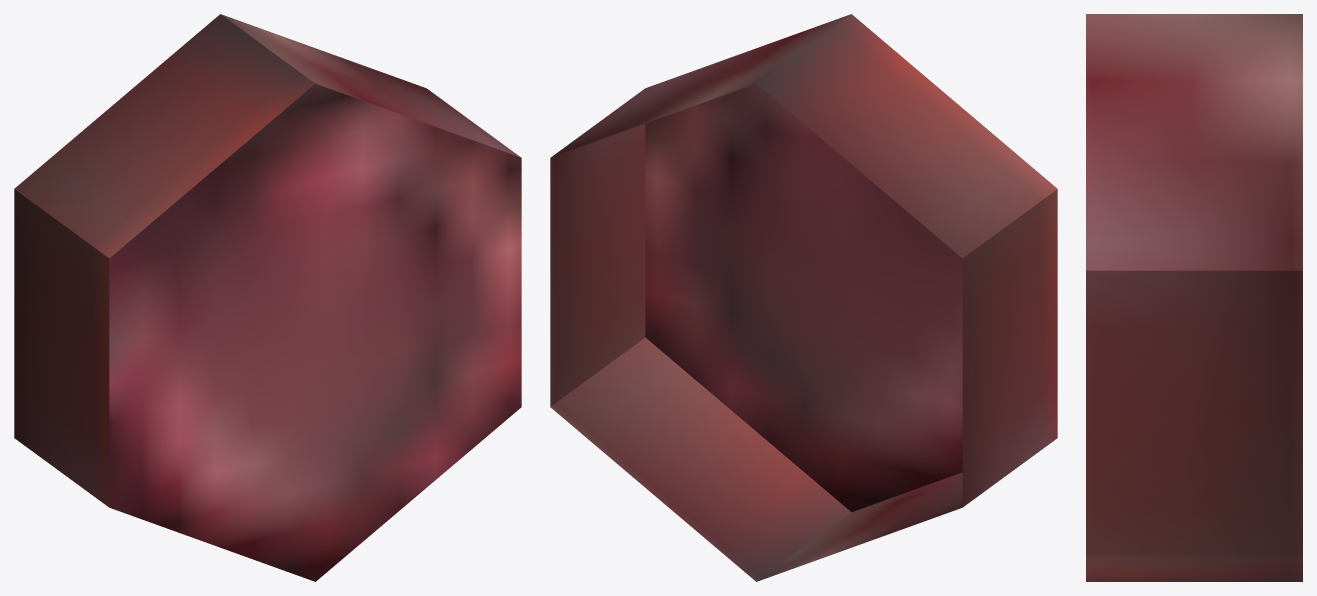
Rendered from PanelButton.fbx.
3 views of the same model, side by side, from view 1: azimuth 30°, elevation 25°; view 2: azimuth 150°, elevation 25°; view 3: azimuth 270°, elevation 25° (orthographic). The views are drawn at different scales.
Visible parts, largest first — view 1: Cylinder.003; view 2: Cylinder.003; view 3: Cylinder.003.
Part boxes in pixels (<box>): Cylinder.003: <box>14,14,521,581</box>; Cylinder.003: <box>550,14,1057,581</box>; Cylinder.003: <box>1086,14,1302,581</box>.
Size of the model in its own units: 34.45 by 39.78 by 13.77.
